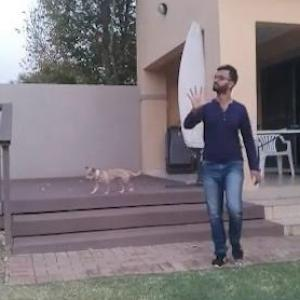follow_hand: (182, 79, 212, 112)
